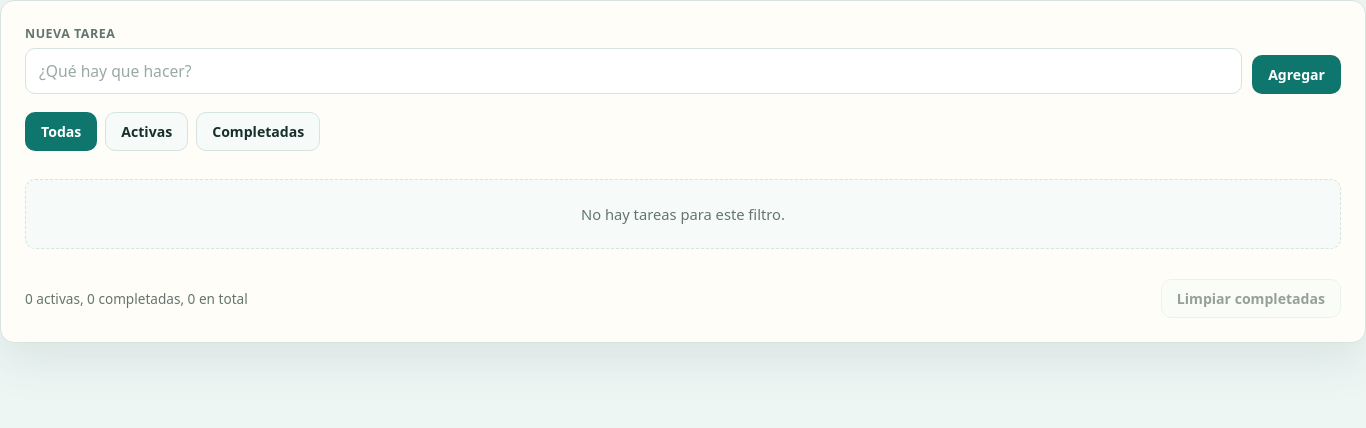
it: TasksDashboard › el filtro Activas oculta las completadas
Type "Visible" into the field labelled "Nueva tarea" at (634, 71), box x1=25 y1=48 x2=1242 y2=94
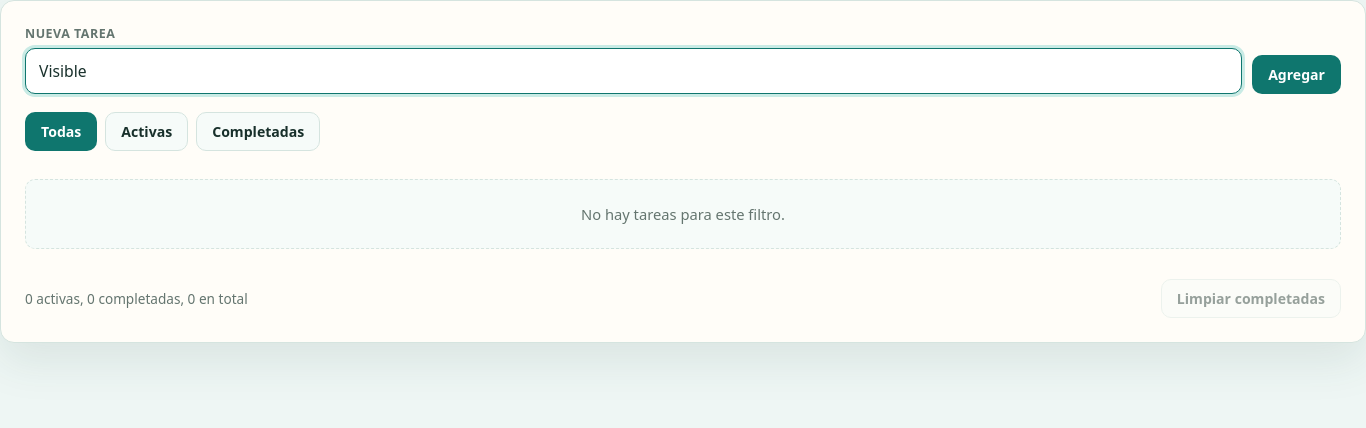
Click the button "Agregar" at (1297, 74), box x1=1252 y1=55 x2=1341 y2=94
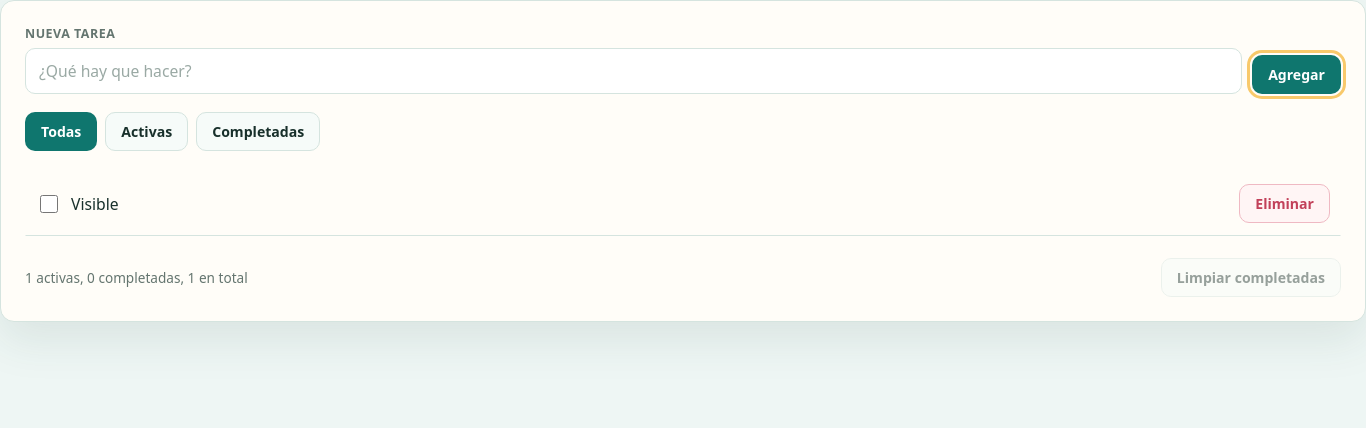
Type "Oculta" into the field labelled "Nueva tarea" at (634, 71), box x1=25 y1=48 x2=1242 y2=94
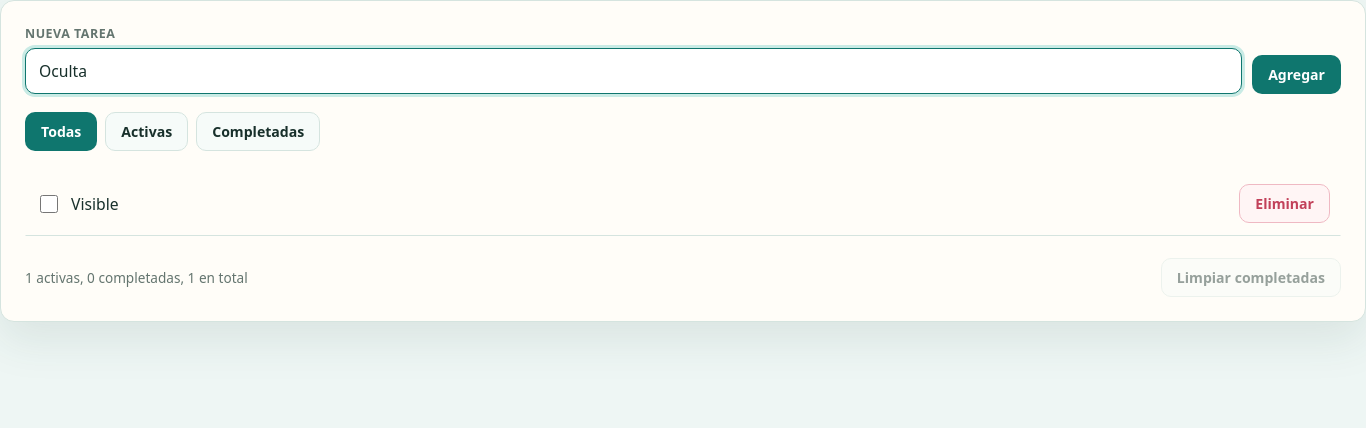
Click the button "Agregar" at (1297, 74), box x1=1252 y1=55 x2=1341 y2=94
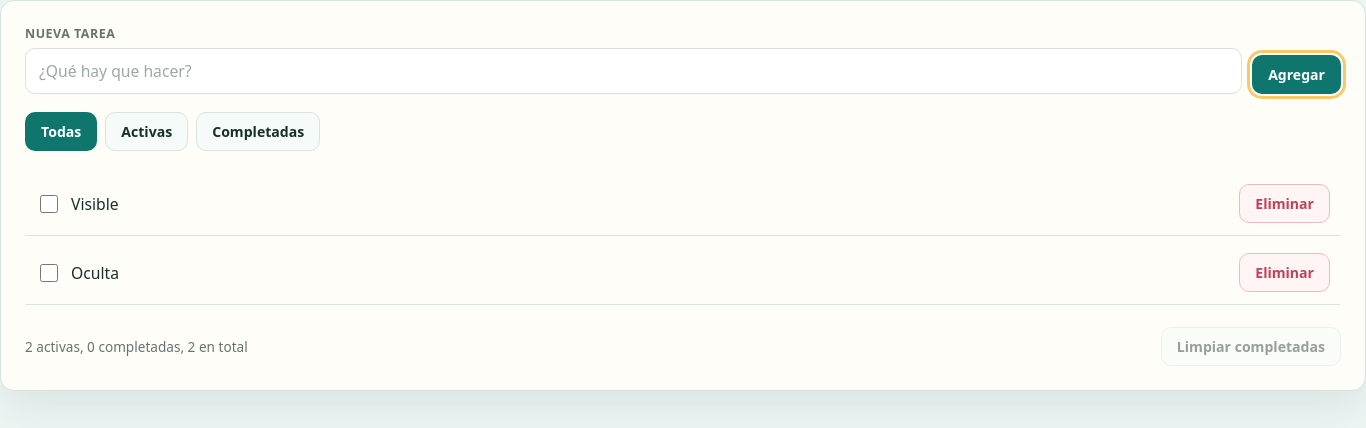
Click the checkbox labelled "Oculta" at (49, 272), box x1=40 y1=264 x2=58 y2=282
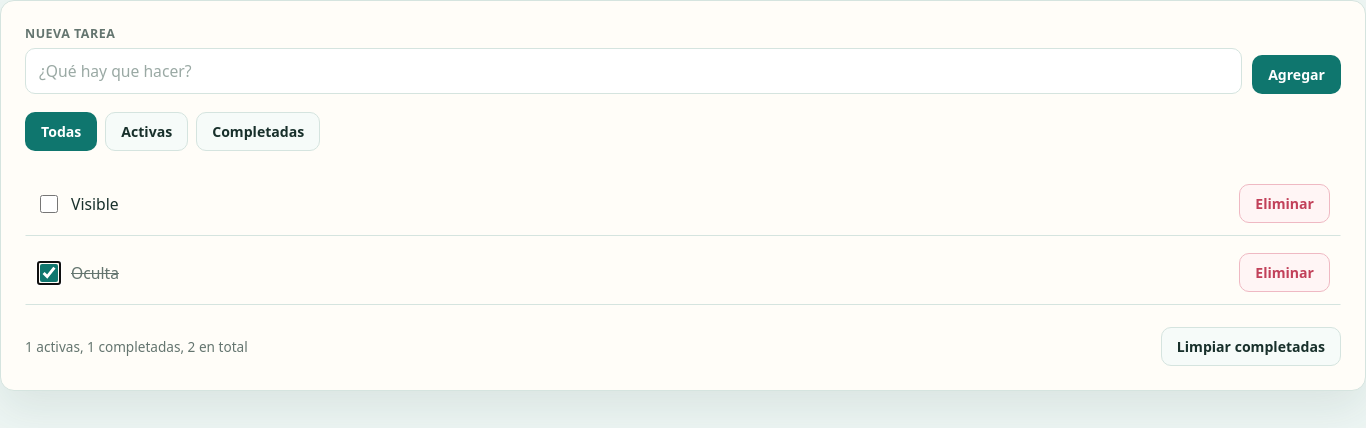
Click the button "Activas" at (147, 132), box x1=105 y1=112 x2=188 y2=151
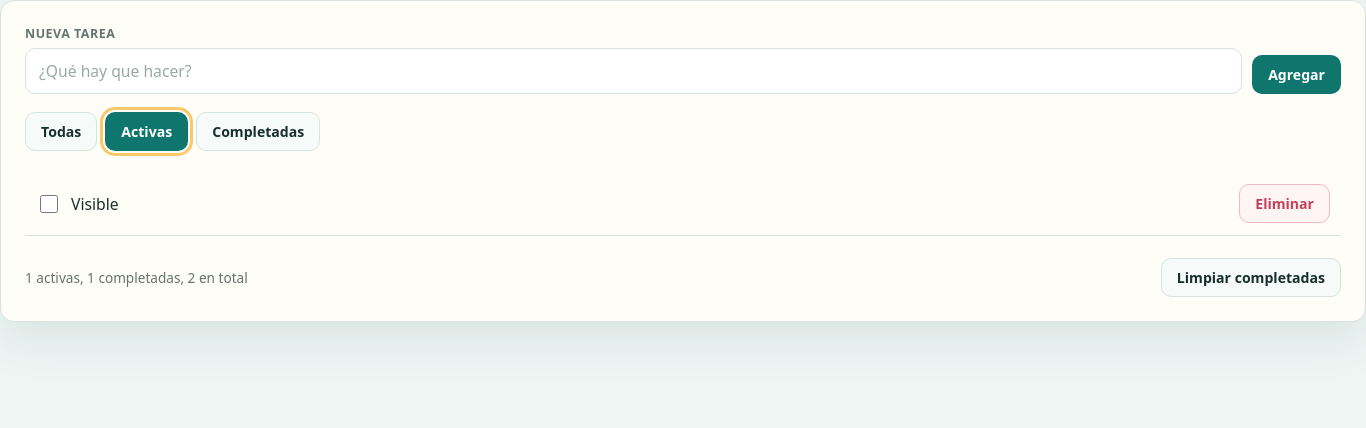
Expected: the text "Visible" is shown, x1=71 y1=192 x2=118 y2=214
Expected: the text "Oculta" is gone
